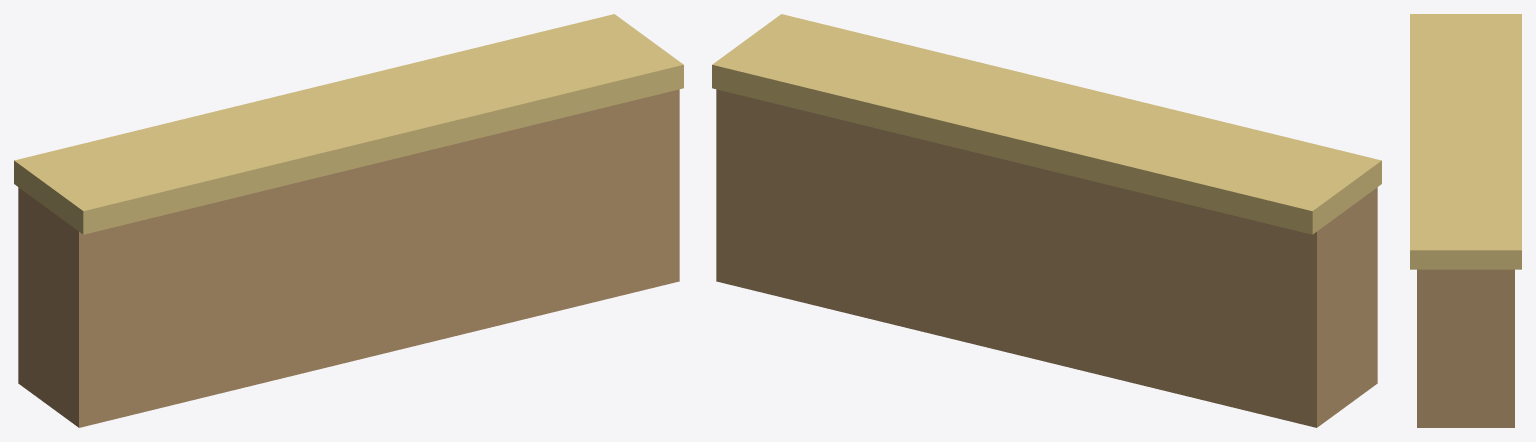
The model's file is prop-try-square-stock-ts1.fbx.
3 renders of one model, left to right at view 1: azimuth 30°, elevation 25°; view 2: azimuth 150°, elevation 25°; view 3: azimuth 270°, elevation 25°, orthographic. The views are drawn at different scales.
Visible parts, largest first — view 1: prop-try-square-stock-ts1; view 2: prop-try-square-stock-ts1; view 3: prop-try-square-stock-ts1.
Part boxes in pixels (<box>): prop-try-square-stock-ts1: <box>14,14,683,427</box>; prop-try-square-stock-ts1: <box>712,14,1381,427</box>; prop-try-square-stock-ts1: <box>1410,14,1521,427</box>.
Bounding box in the file's own units: 16 × 5.6 × 3.2.
